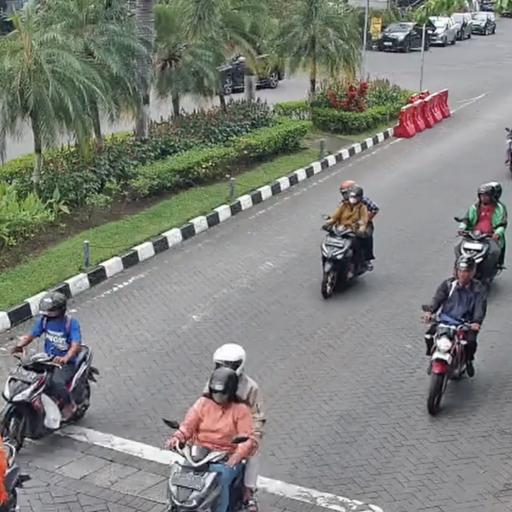motor: (2, 334, 95, 449), (416, 303, 485, 418), (318, 215, 378, 301), (452, 212, 508, 284)
